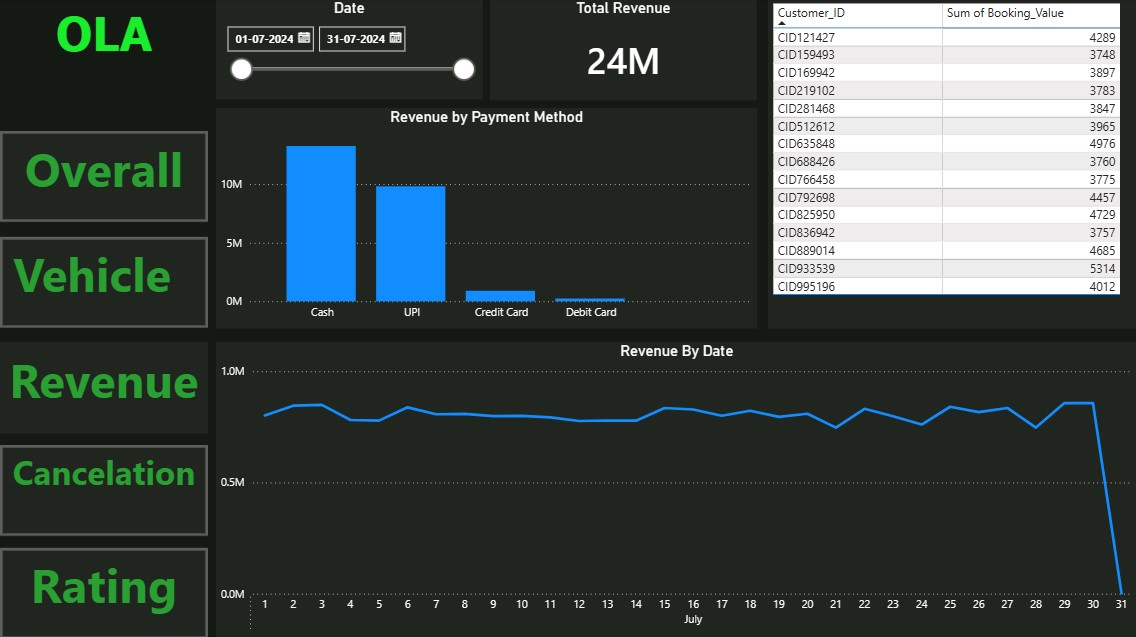

Layout of this report page (visuals, bound fields, positions):
{"tool":"powerbi","page":{"name":"Revenue","canvas":[1280,720],"ordinal":2},"visuals":[{"type":"textbox","box":[0,0,234.2,103.9],"z":0},{"type":"textbox","box":[0,267.1,234.2,102.6],"z":1000},{"type":"textbox","box":[0,385.4,234.2,102.6],"z":2000},{"type":"textbox","box":[0,617,234.2,102.6],"z":3000},{"type":"textbox","box":[0,501.2,234.2,102.6],"z":4000},{"type":"textbox","box":[0,148.7,234.2,102.6],"z":5000},{"type":"slicer","title":"Date","fields":{"Values":["cleaned_bookings.Date"]},"box":[243.4,0,299.9,113.1],"z":6000},{"type":"cardVisual","title":"Total Revenue ","fields":{"Data":["Sum(cleaned_bookings.Booking Sucess Values)"]},"box":[551.2,0,300.4,113.6],"z":7000},{"type":"lineChart","title":"Revenue By Date","fields":{"Category":["cleaned_bookings.Date.Variation.Date Hierarchy.Month","cleaned_bookings.Date.Variation.Date Hierarchy.Day"],"Y":["Sum(cleaned_bookings.Booking Sucess Values)"]},"box":[243.4,385.4,1036.6,334.1],"z":8000},{"type":"actionButton","box":[0,148.5,234,102.4],"z":9000},{"type":"actionButton","box":[0,267.8,234,102.4],"z":10000},{"type":"actionButton","box":[0,501.8,234,102.4],"z":11000},{"type":"actionButton","box":[0,617.6,234,102.4],"z":12000},{"type":"columnChart","title":"Revenue by Payment Method","fields":{"Y":["Sum(cleaned_bookings.Booking Sucess Values)"],"Category":["cleaned_bookings.Payment_Method"]},"box":[243,122.6,608.6,247.5],"z":13000},{"type":"tableEx","fields":{"Values":["cleaned_bookings.Customer_ID","Sum(cleaned_bookings.Booking_Value)"]},"box":[864,0,416.2,371.2],"z":14000}]}

Visuals, with their boxes in screenshot pixels (x1, y1, x2, y2), scaled from the page's 1280x720 canvas onto the 1136x637 screenshot:
textbox: x1=0 y1=0 x2=208 y2=92
textbox: x1=0 y1=236 x2=208 y2=327
textbox: x1=0 y1=341 x2=208 y2=432
textbox: x1=0 y1=546 x2=208 y2=636
textbox: x1=0 y1=443 x2=208 y2=534
textbox: x1=0 y1=132 x2=208 y2=222
"Date" slicer: x1=216 y1=0 x2=482 y2=100
"Total Revenue " cardVisual: x1=489 y1=0 x2=756 y2=101
"Revenue By Date" lineChart: x1=216 y1=341 x2=1135 y2=636
actionButton: x1=0 y1=131 x2=208 y2=222
actionButton: x1=0 y1=237 x2=208 y2=328
actionButton: x1=0 y1=444 x2=208 y2=535
actionButton: x1=0 y1=546 x2=208 y2=636
"Revenue by Payment Method" columnChart: x1=216 y1=108 x2=756 y2=327
tableEx - cleaned_bookings.Customer_ID x Sum(cleaned_bookings.Booking_Value): x1=767 y1=0 x2=1135 y2=328
